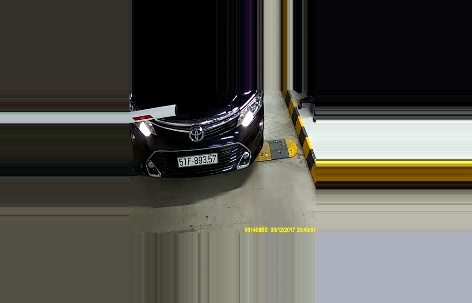plate: (178, 152, 218, 167)
